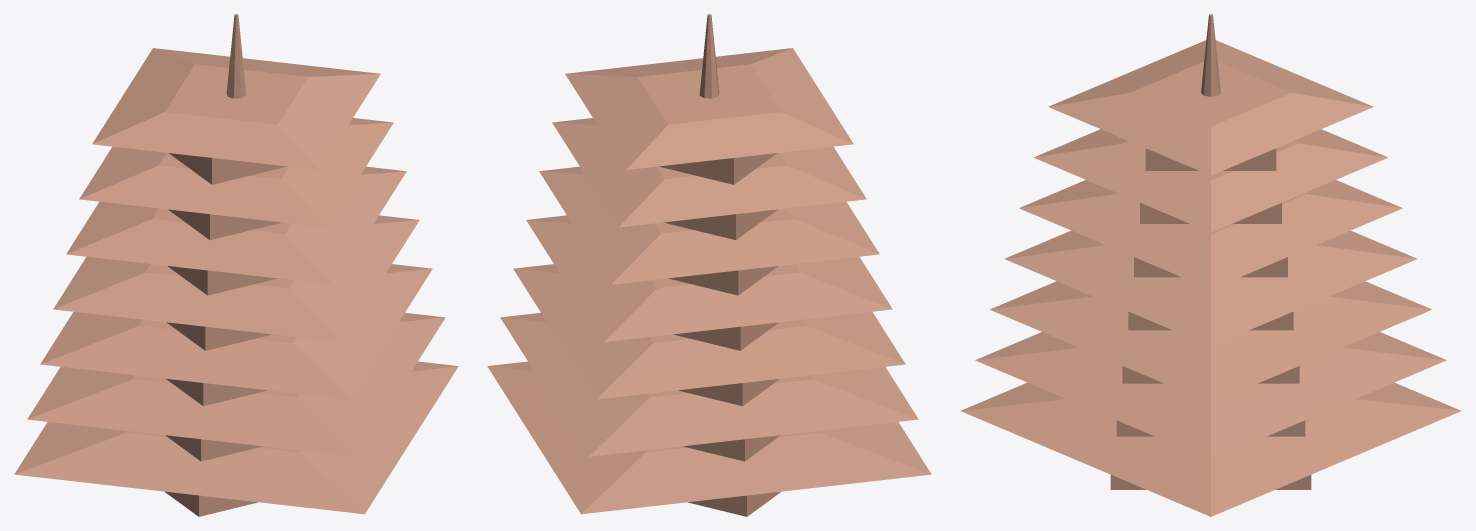
Rendered from place-giant-wild-goose-pagoda.glb.
The picture shows the model from 3 angles, left to right: view 1: azimuth 30°, elevation 25°; view 2: azimuth 150°, elevation 25°; view 3: azimuth 270°, elevation 25°; orthographic projection. The views are drawn at different scales.
Parts seen in each view (by area): view 1: place-giant-wild-goose-pagoda; view 2: place-giant-wild-goose-pagoda; view 3: place-giant-wild-goose-pagoda.
Part boxes in pixels (box(x1,y1,x2,y2)): place-giant-wild-goose-pagoda: box(14, 14, 458, 516); place-giant-wild-goose-pagoda: box(487, 14, 931, 516); place-giant-wild-goose-pagoda: box(961, 14, 1460, 516).
Bounding box in the file's own units: 67.25 × 64 × 67.25.
